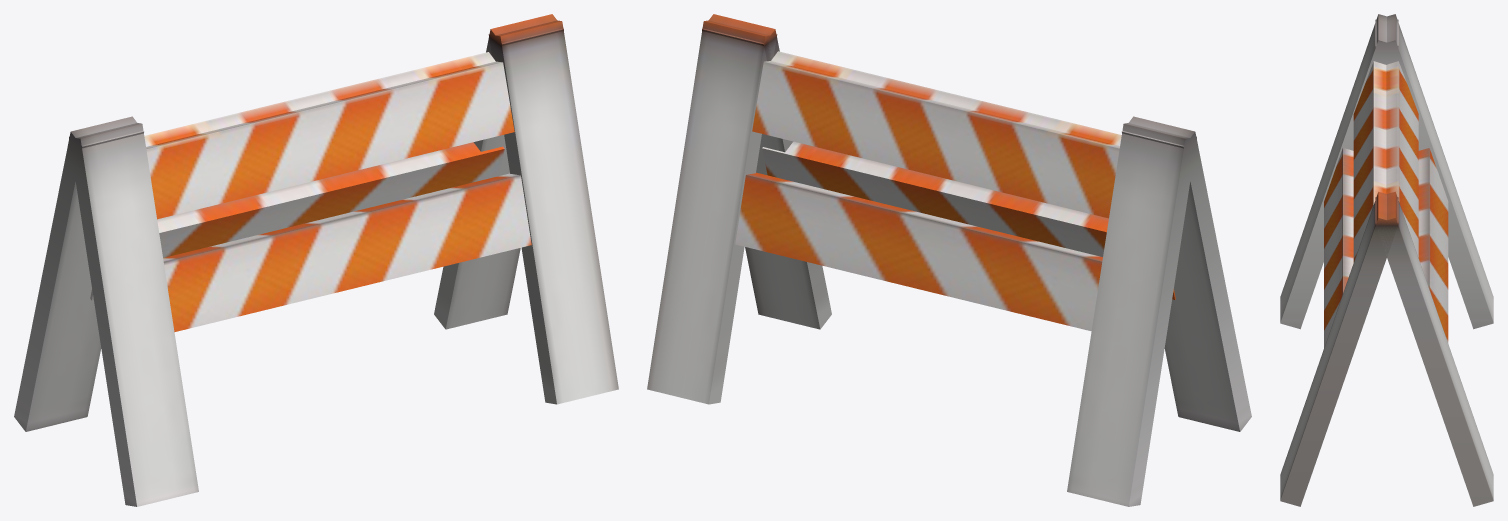
Rendered from barrier.fbx.
3 renders of one model, left to right at view 1: azimuth 30°, elevation 25°; view 2: azimuth 150°, elevation 25°; view 3: azimuth 270°, elevation 25°, orthographic. The views are drawn at different scales.
Parts seen in each view (by area): view 1: Barrier; view 2: Barrier; view 3: Barrier.
Boxes of the visible parts, x1=… form: Barrier: x1=14, y1=14, x2=618, y2=506; Barrier: x1=647, y1=14, x2=1251, y2=506; Barrier: x1=1280, y1=14, x2=1493, y2=506.
Bounding box in the file's own units: 3.64 × 2.41 × 1.61.
